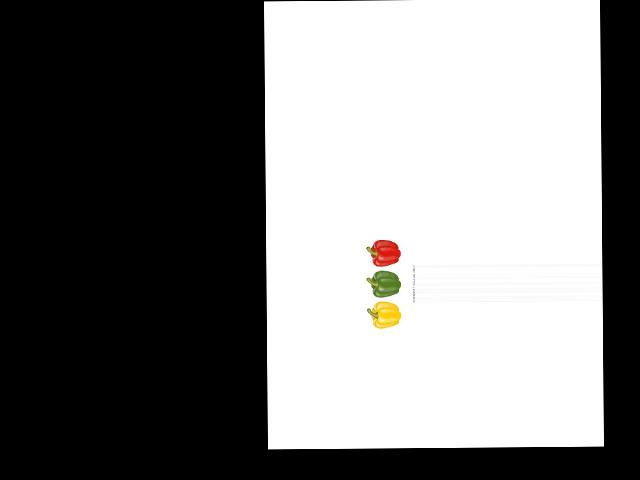bell_pepper: (367, 299, 404, 330)
